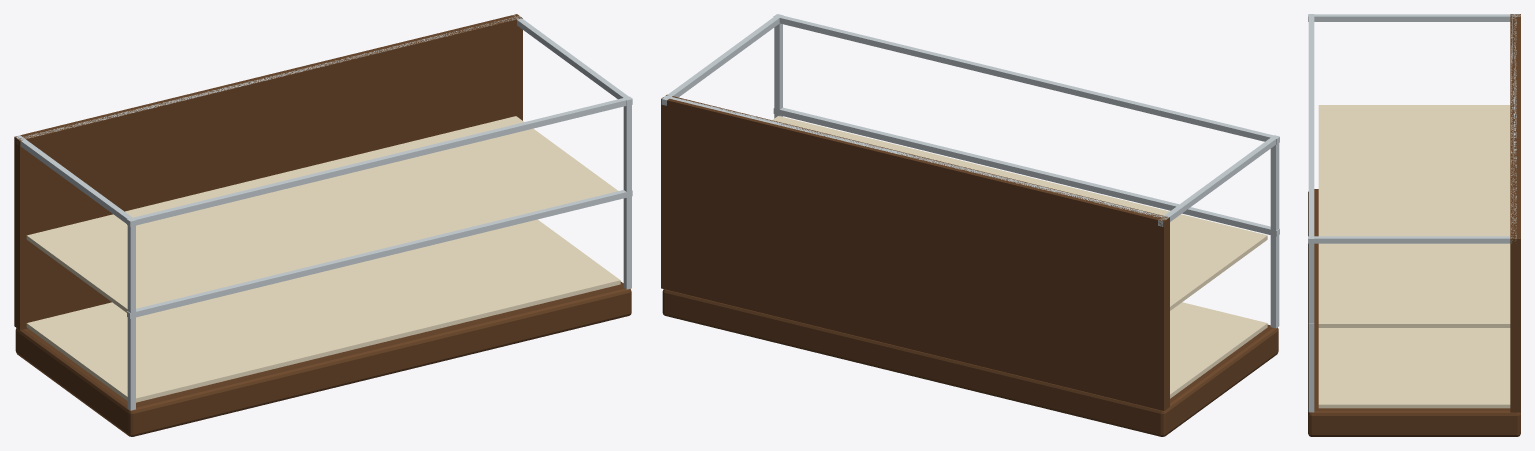
Rendered from pastry_case.fbx.
The picture shows the model from 3 angles, left to right: view 1: azimuth 30°, elevation 25°; view 2: azimuth 150°, elevation 25°; view 3: azimuth 270°, elevation 25°; orthographic projection. The views are drawn at different scales.
Parts seen in each view (by area): view 1: pastry_case_LOD0; view 2: pastry_case_LOD0; view 3: pastry_case_LOD0.
Part boxes in pixels (<box>): pastry_case_LOD0: <box>14,14,632,436</box>; pastry_case_LOD0: <box>661,14,1279,436</box>; pastry_case_LOD0: <box>1308,14,1520,436</box>.
Size of what is drawn, in the model's own units: 1.5 by 0.62 by 0.6.
